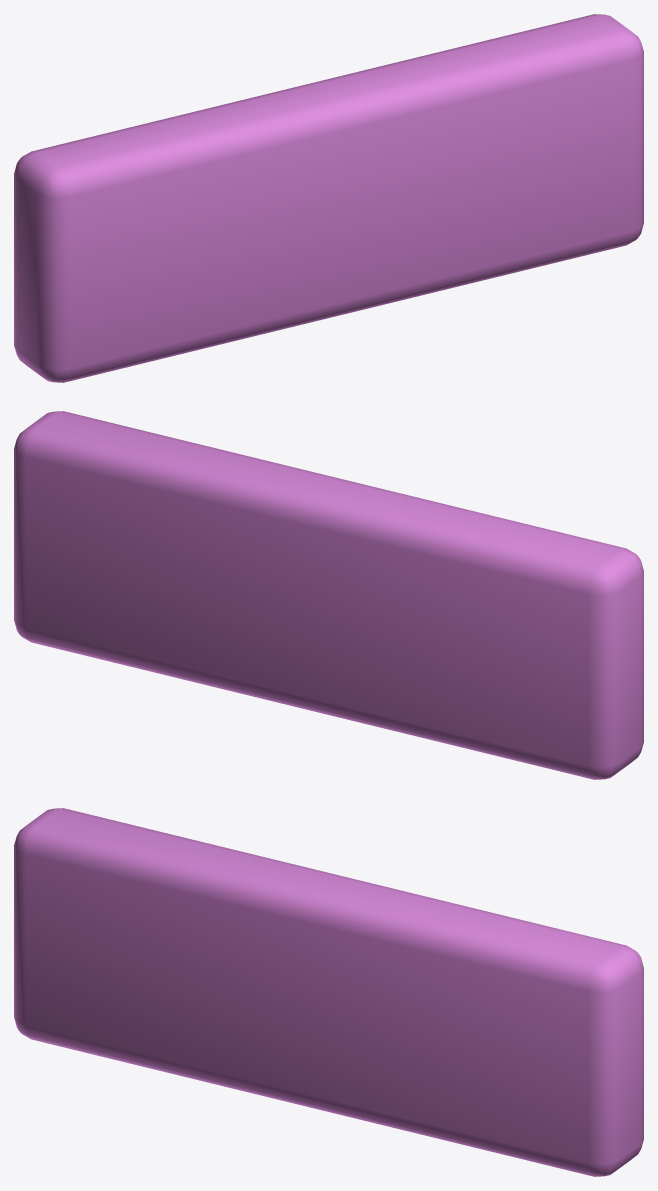
File: WayPathLong.fbx
3 views of the same model, one above another, from view 1: azimuth 30°, elevation 25°; view 2: azimuth 150°, elevation 25°; view 3: azimuth 330°, elevation 25° (orthographic).
Parts seen in each view (by area): view 1: Circle.018; view 2: Circle.018; view 3: Circle.018.
Boxes of the visible parts, bbox=[...] form: Circle.018: bbox=[14, 14, 643, 382]; Circle.018: bbox=[14, 411, 643, 779]; Circle.018: bbox=[14, 808, 643, 1176].
Size of the model in its own units: 6.94 by 2.35 by 0.87.
